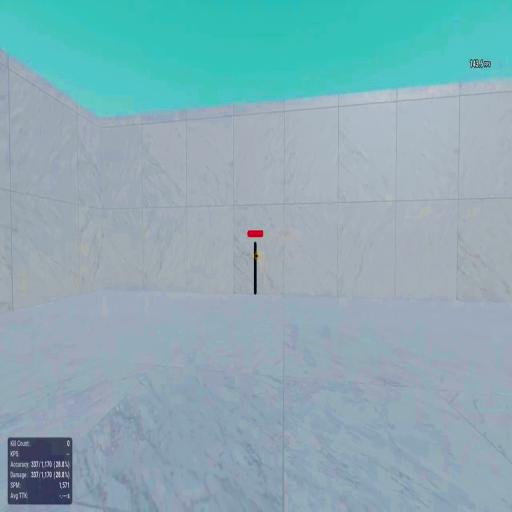Crosshair: (253, 252, 259, 260)
Target: (253, 242, 257, 294)
